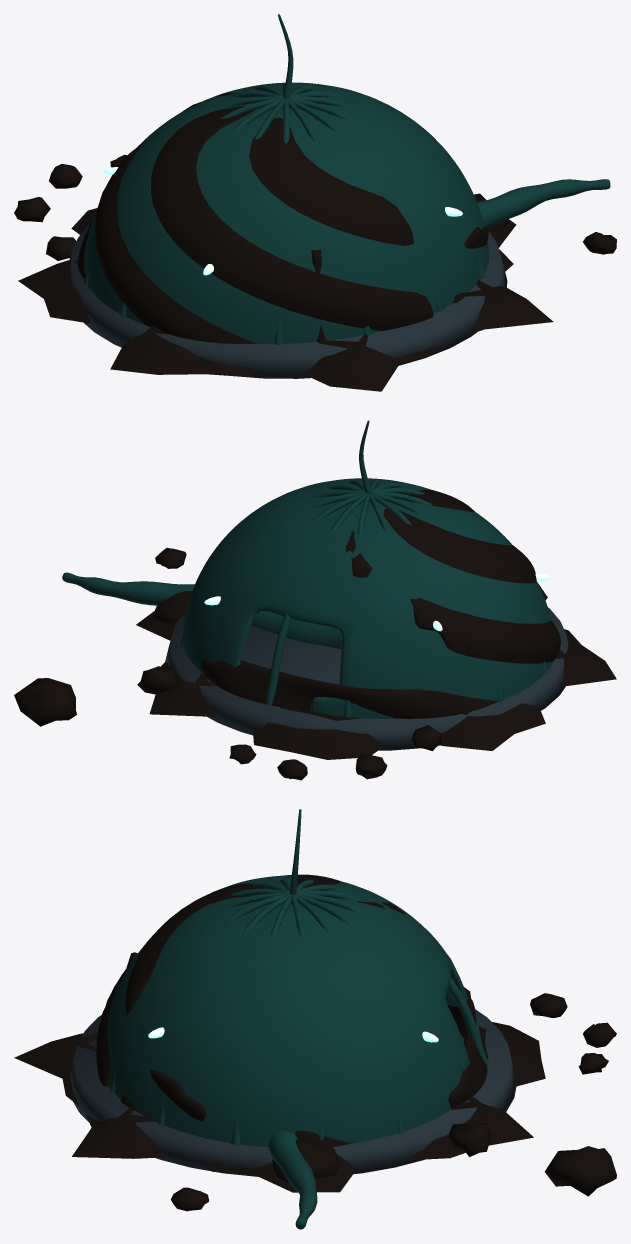
Rendered from settlement.glb.
The picture shows the model from 3 angles, top to bottom: view 1: azimuth 30°, elevation 25°; view 2: azimuth 150°, elevation 25°; view 3: azimuth 270°, elevation 25°; orthographic projection. The views are drawn at different scales.
Parts seen in each view (by area): view 1: Dwelling, DwellingRuin, Crater, DwellingBase, DwellingRibs, RuinRubble, FallenSpire; view 2: Dwelling, DwellingRuin, DwellingBase, Crater, RuinRubble, DwellingRibs, FallenSpire; view 3: Dwelling, DwellingBase, Crater, RuinRubble, DwellingRuin, DwellingRibs, FallenSpire.
Part boxes in pixels (<box>): Dwelling: <box>84,82,489,343</box>; DwellingRuin: <box>78,93,488,343</box>; Crater: <box>18,208,553,391</box>; DwellingBase: <box>69,224,507,378</box>; DwellingRibs: <box>83,14,488,345</box>; RuinRubble: <box>14,154,616,341</box>; FallenSpire: <box>477,179,610,227</box>; Dwelling: <box>182,478,552,718</box>; DwellingRuin: <box>201,486,560,718</box>; DwellingBase: <box>165,607,568,750</box>; Crater: <box>136,583,616,759</box>; RuinRubble: <box>14,548,441,780</box>; DwellingRibs: <box>180,420,551,717</box>; FallenSpire: <box>62,572,342,649</box>; Dwelling: <box>107,875,480,1146</box>; DwellingBase: <box>70,1009,516,1176</box>; Crater: <box>14,1022,545,1192</box>; RuinRubble: <box>124,952,616,1211</box>; DwellingRuin: <box>96,874,487,1147</box>; DwellingRibs: <box>110,809,488,1144</box>; FallenSpire: <box>268,1130,317,1229</box>.
Size of the model in its own units: 8.25 by 4.15 by 7.74.
